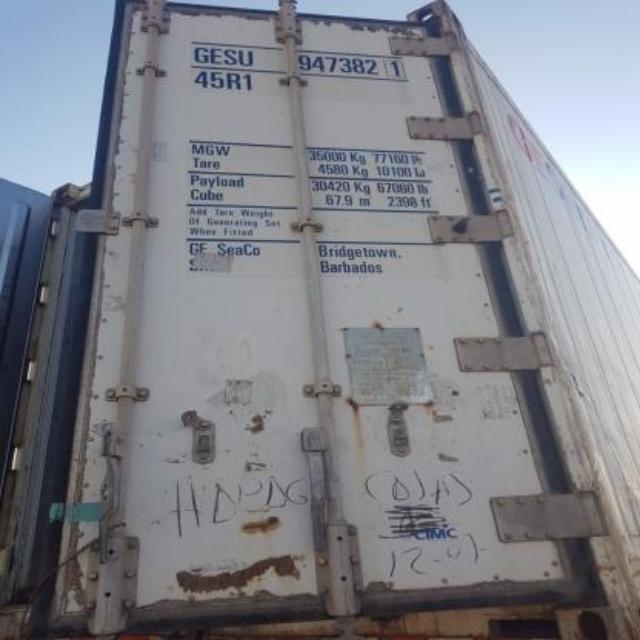1: (387, 56, 405, 80)
2: (364, 53, 378, 77)
3: (339, 53, 351, 77)
4: (312, 49, 326, 76)
7: (324, 51, 340, 77)
8: (352, 54, 364, 74)
9: (296, 48, 312, 76)
E: (212, 42, 224, 68)
G: (192, 41, 212, 68)
S: (224, 44, 240, 70)
U: (239, 46, 255, 70)
